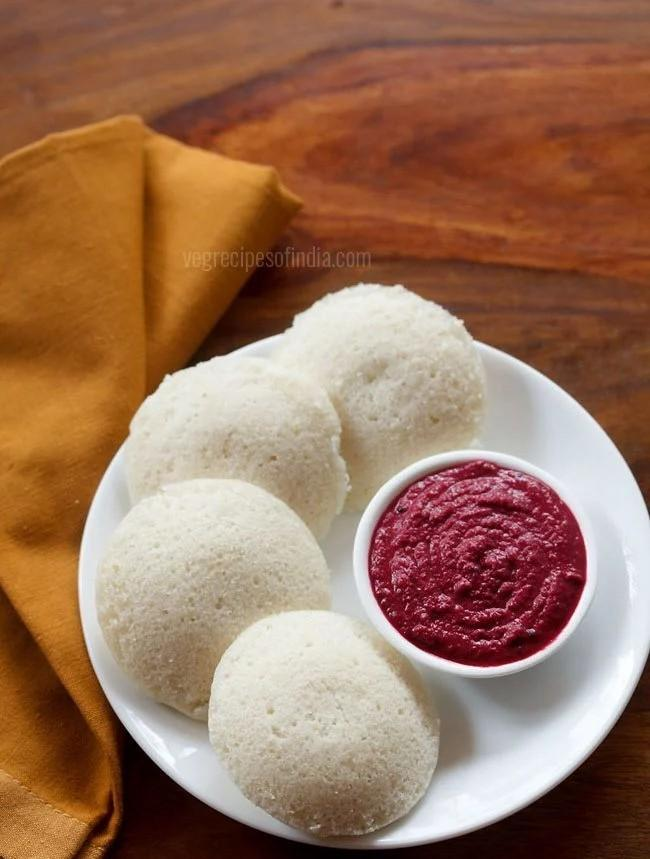Idli: (213, 608, 444, 840), (98, 491, 335, 705), (123, 361, 348, 538), (281, 284, 478, 475)
